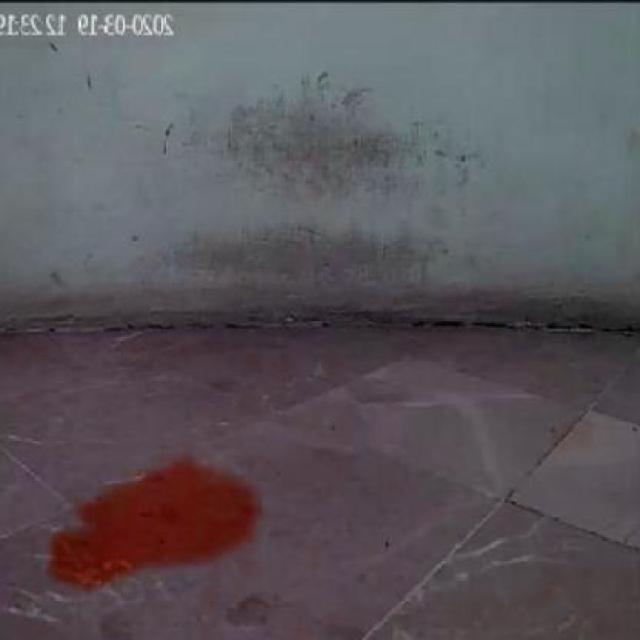spillage: (49, 460, 258, 588)
